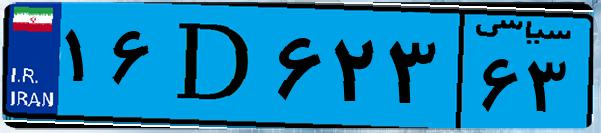1: (57, 26, 110, 100)
2: (330, 28, 385, 110)
3: (385, 28, 445, 110), (525, 38, 570, 115)
6: (270, 28, 330, 110), (475, 38, 525, 113), (110, 28, 158, 98)
D: (158, 12, 270, 120)
